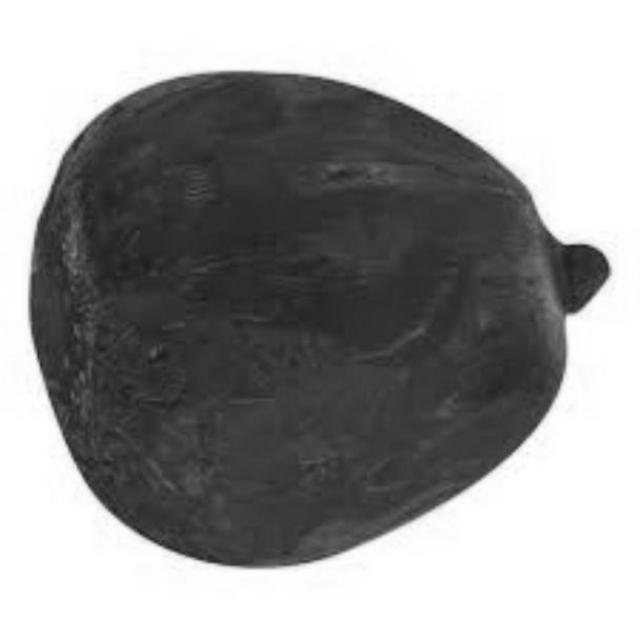sugar beet: (17, 59, 604, 570)
